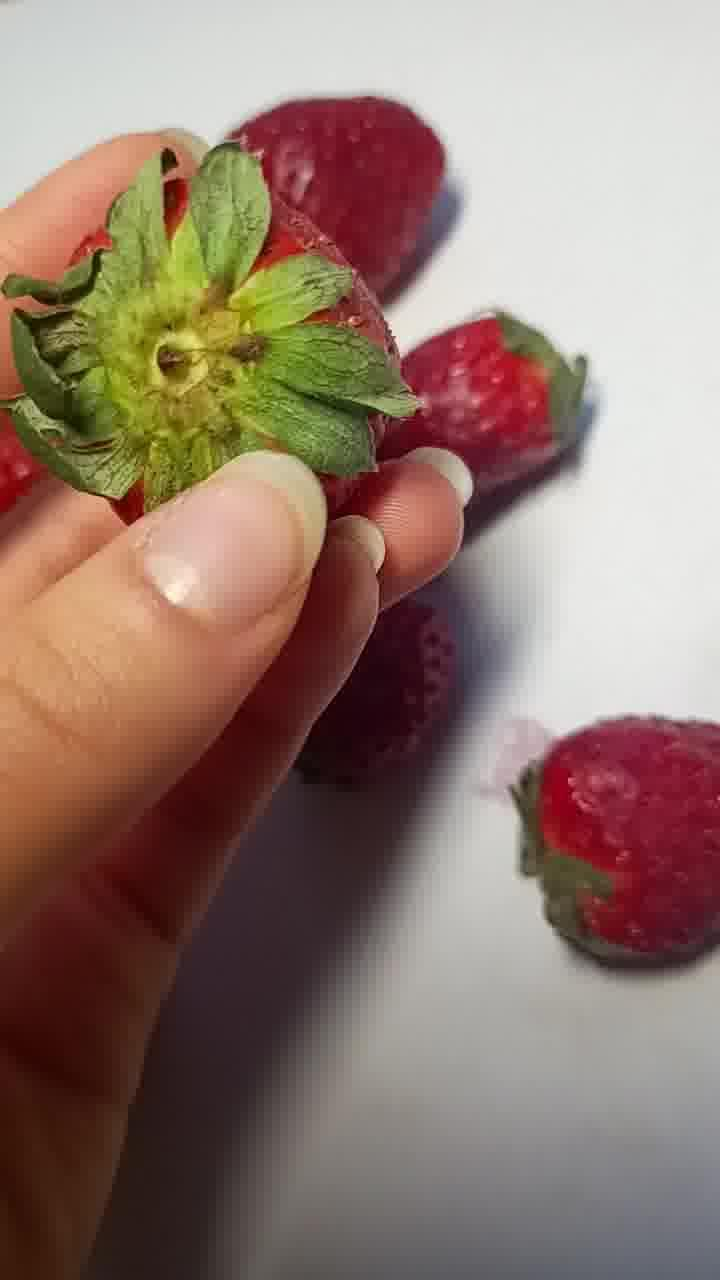strawberry: (46, 176, 406, 524), (533, 708, 720, 978), (221, 88, 446, 299), (396, 308, 584, 503)
